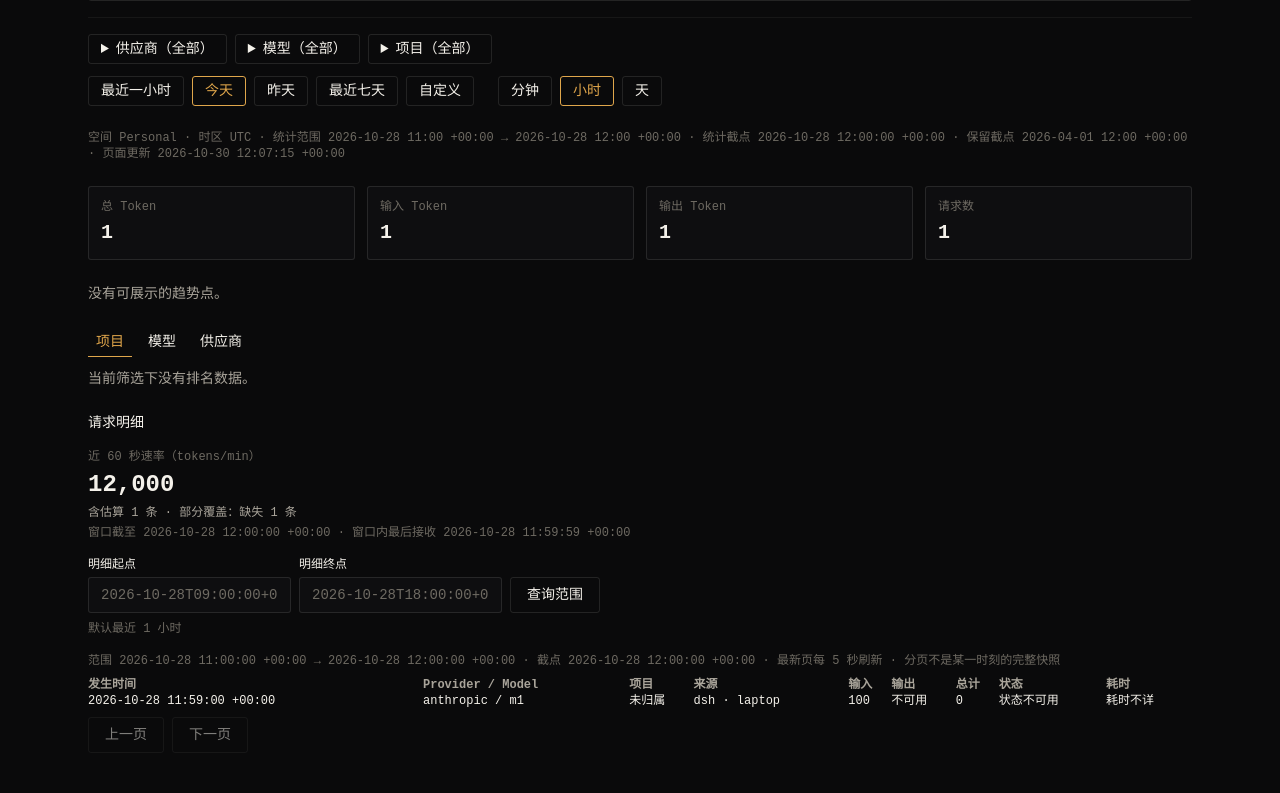
Scenario: request log panel › rejects an invalid detail range without sending a request
(page scrolled)
Expected: the row with test id "request-row" is shown, [88,693,1192,709]
Type "2026-09-02T00:00:00Z" into the field labelled "明细起点" at (190, 595), box [88,577,291,613]
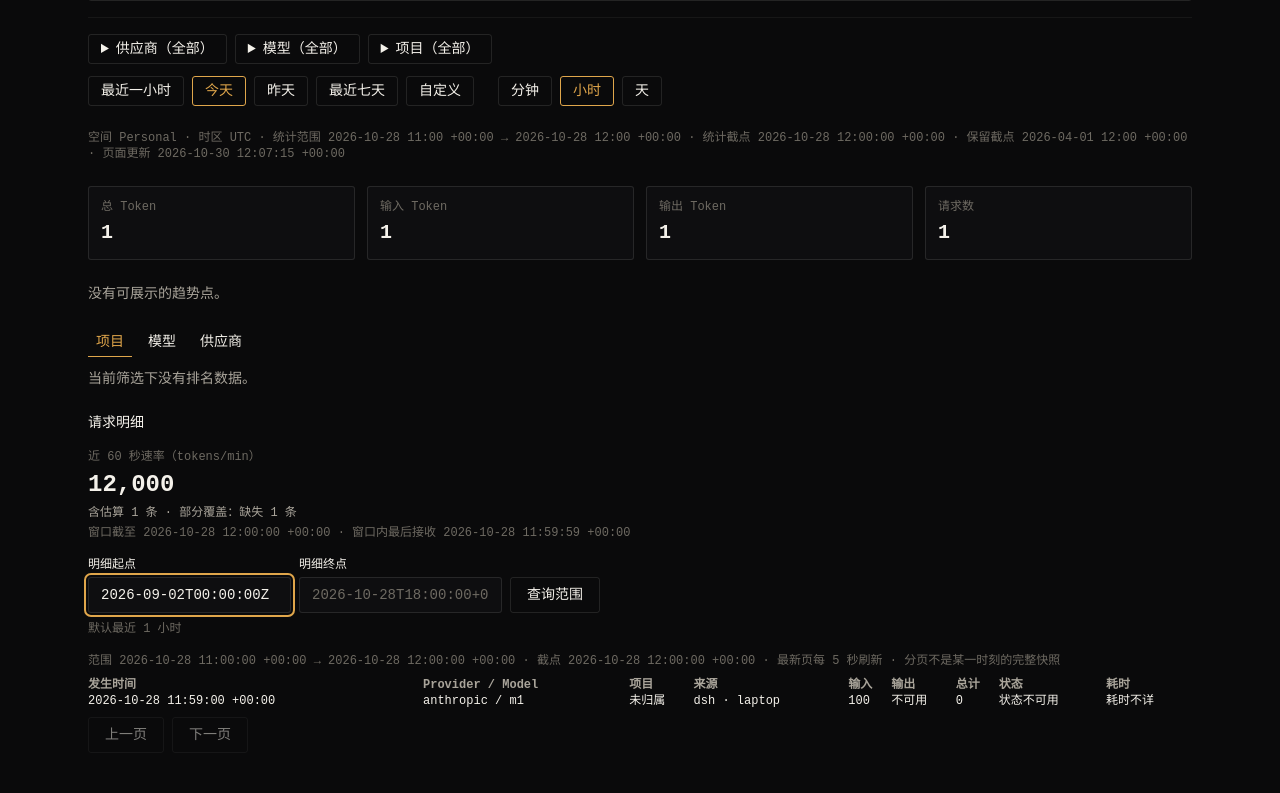
Type "2026-09-01T00:00:00Z" into the field labelled "明细终点" at (400, 595), box [299,577,502,613]
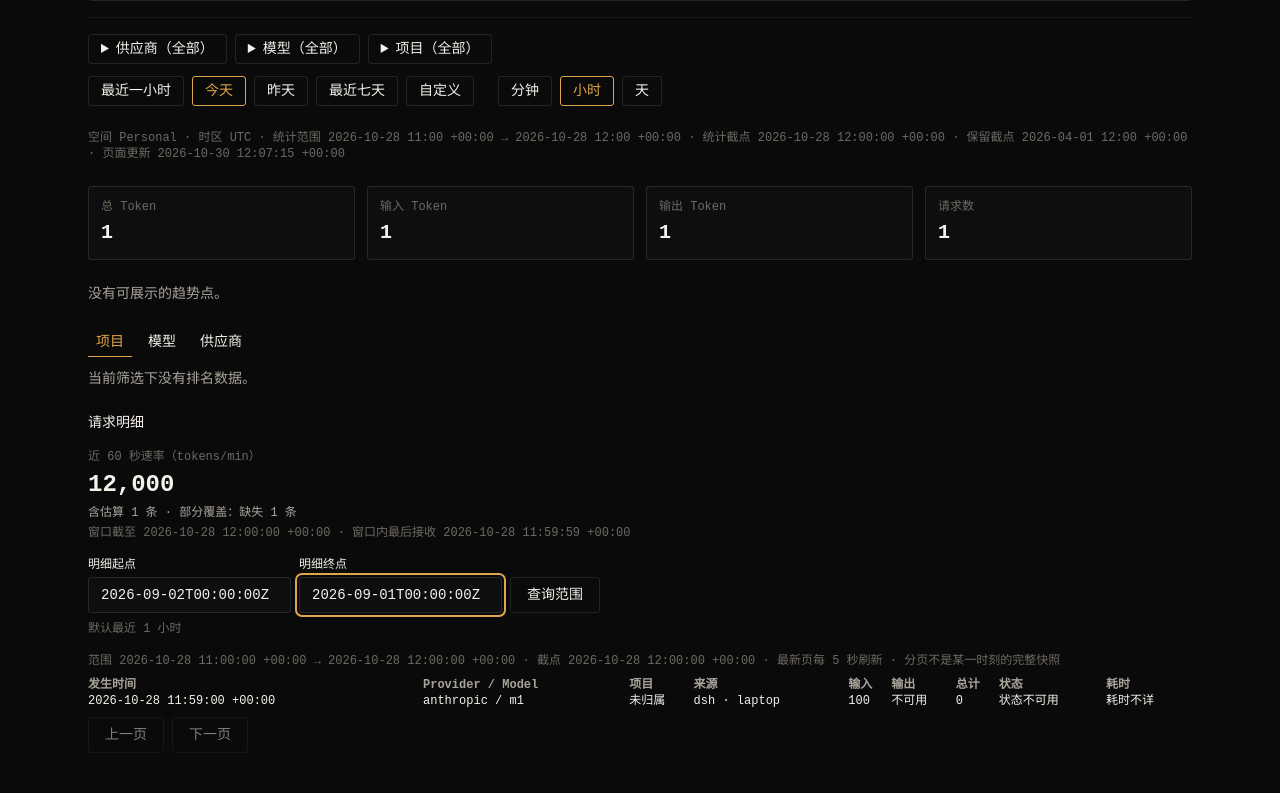
Click the button "查询范围" at (555, 595), box [510,577,600,613]
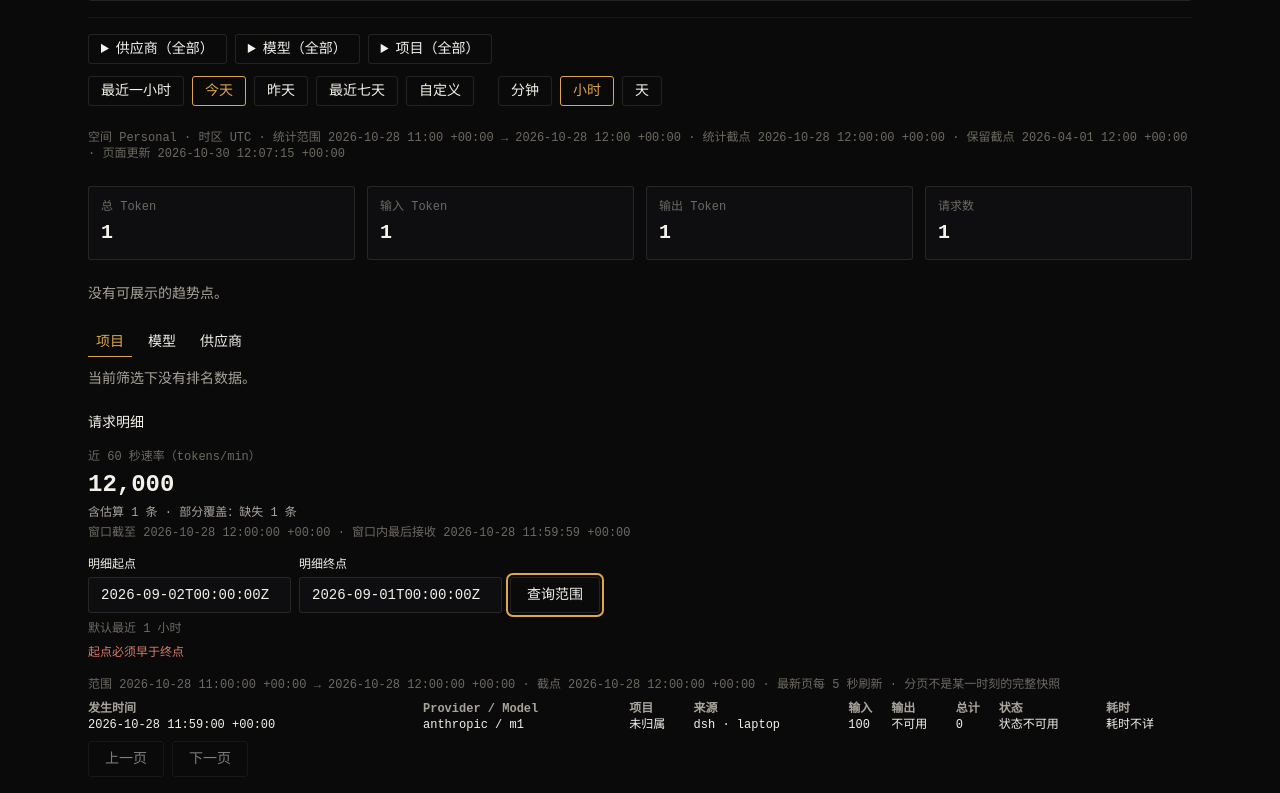
Result: the text "起点必须早于终点" is shown at [88,646,184,660]
